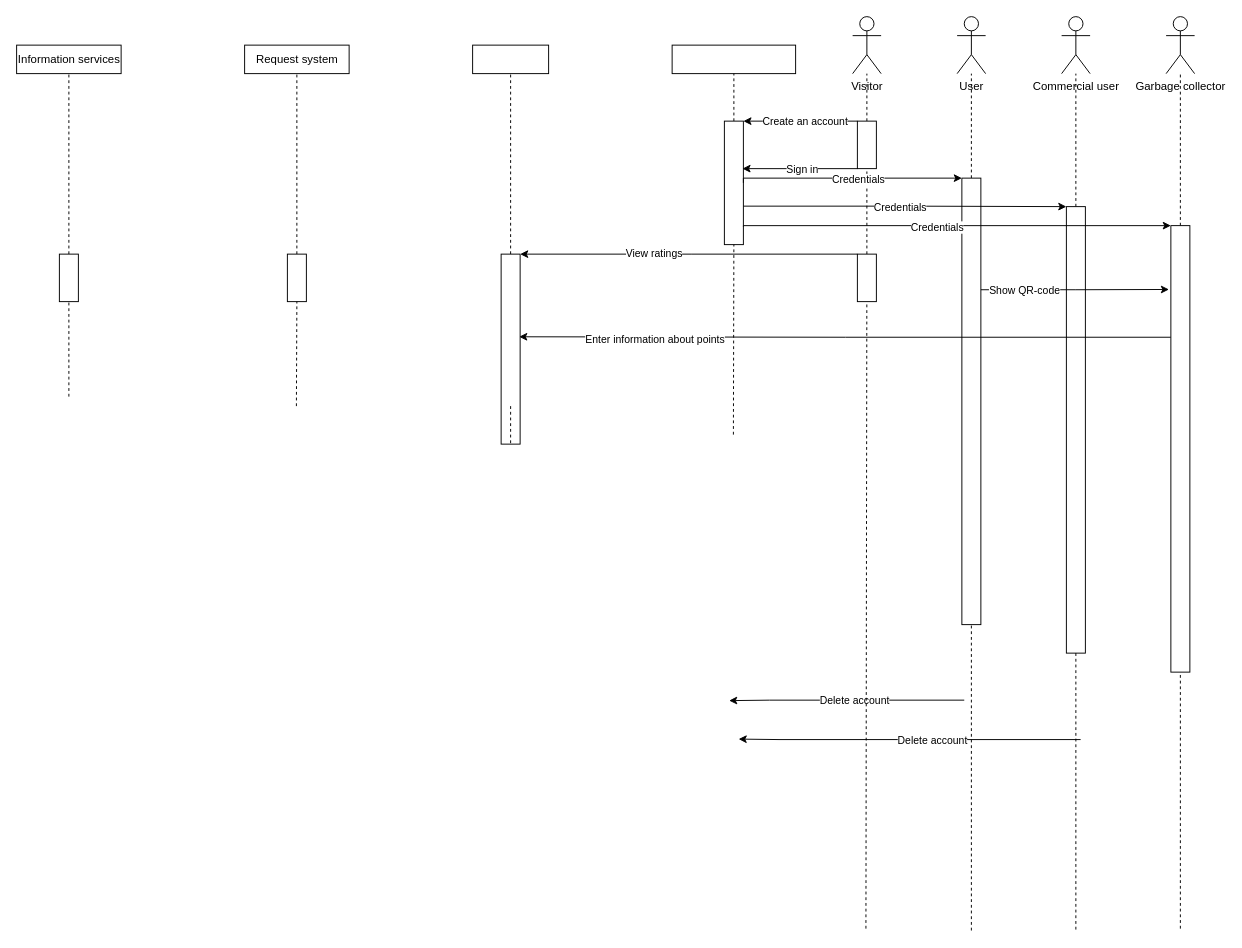
Some shapes in this 1242 by 948 pixel diagram are drawn without their labels. Here are the shapes that lost their labels. From the top down, the centre of each, then its label:
At point 510,59: "Point system".
At point 733,59: "Account management".
